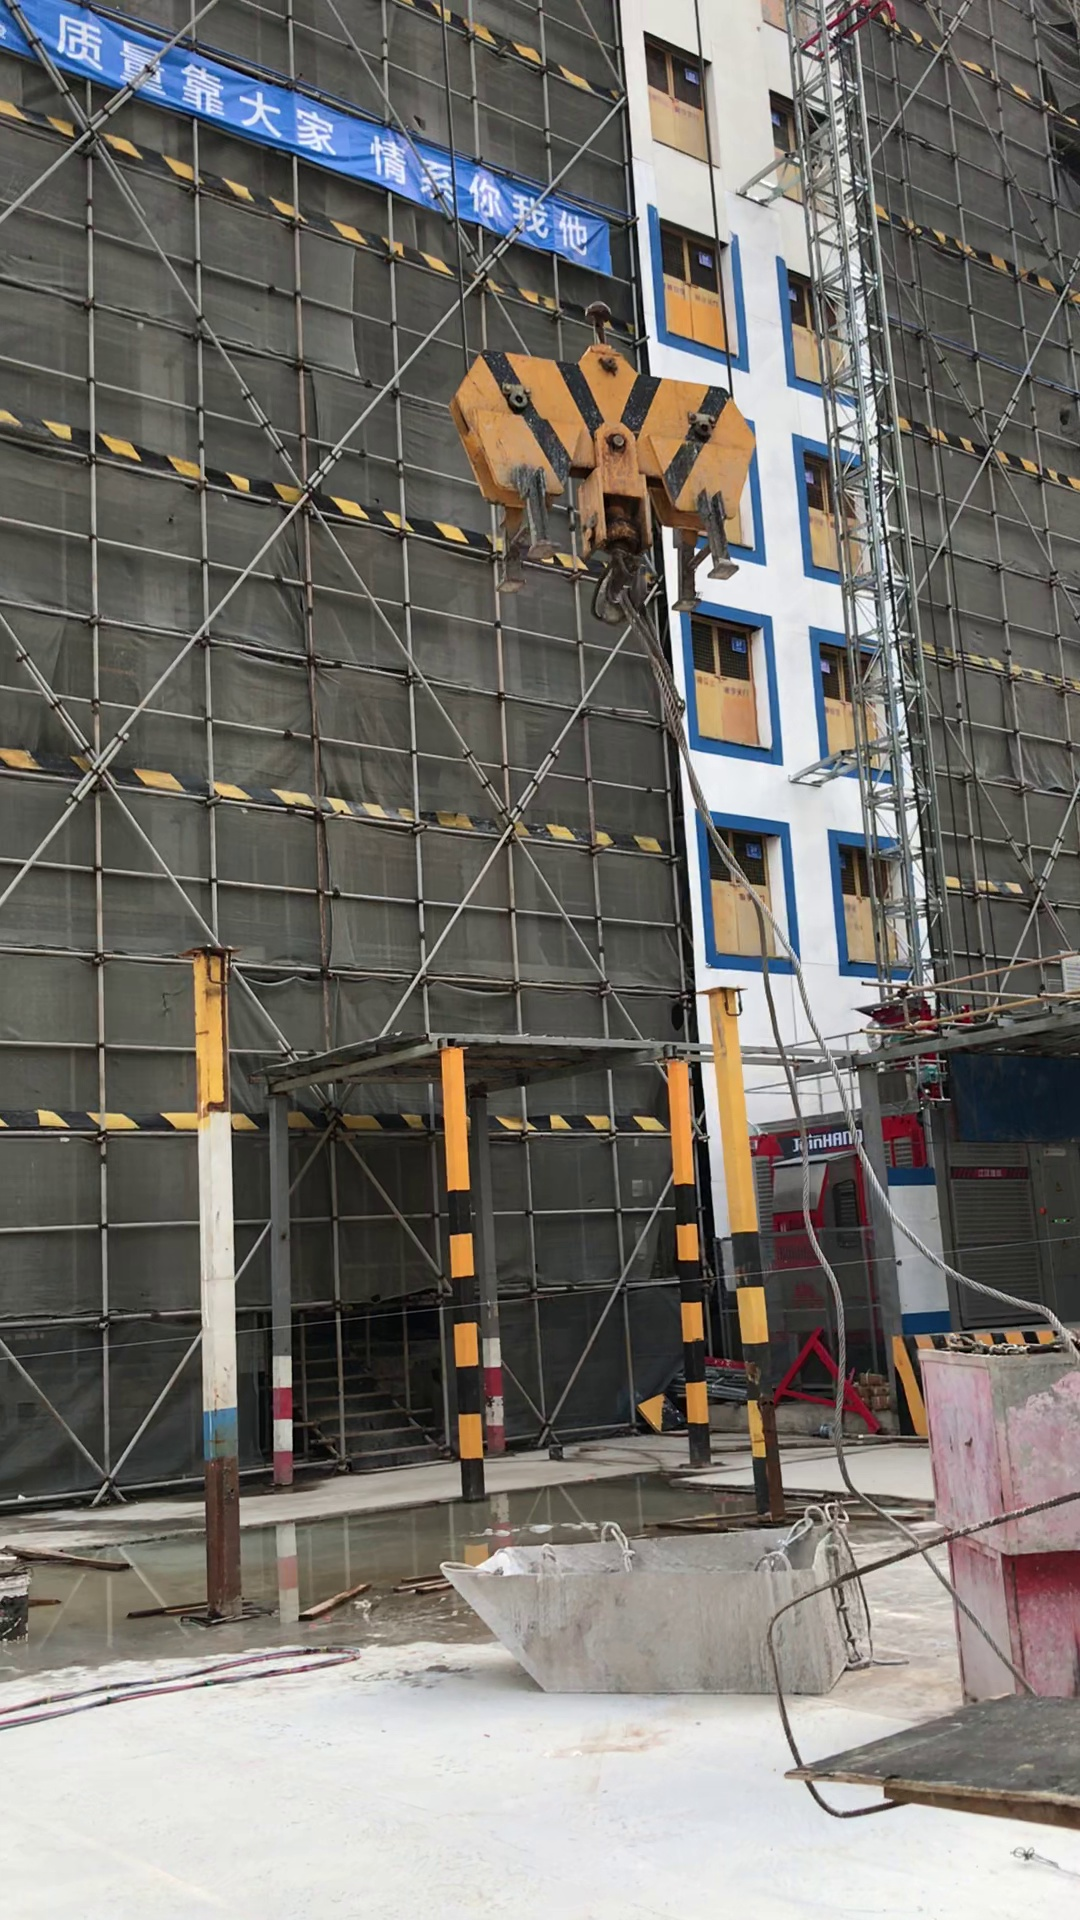hook: (433, 314, 769, 584)
hopper: (439, 1486, 884, 1700)
slogan: (1, 4, 669, 305)
